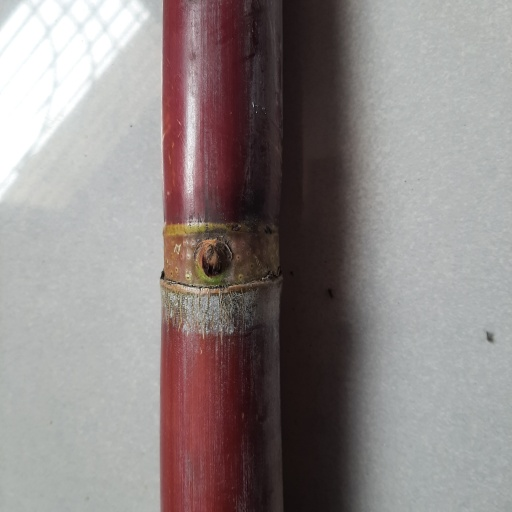Bud: (201, 246, 228, 279)
